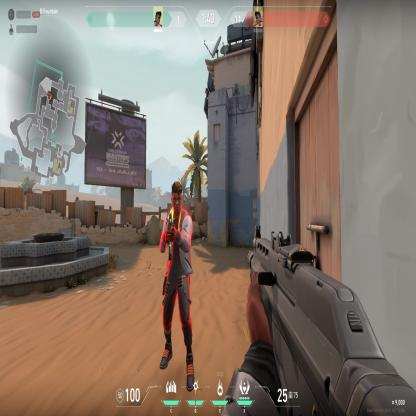enemy: (158, 179, 194, 391)
